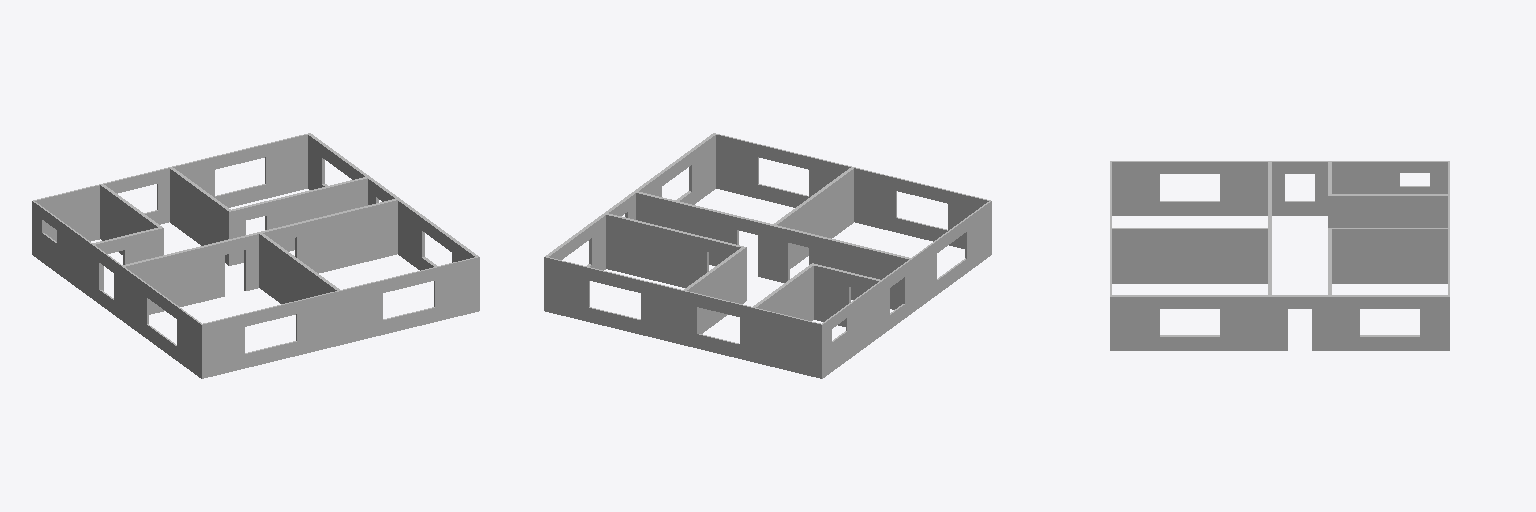
Rendered from house_2ndFloor_wall.obj.
The picture shows the model from 3 angles: view 1: azimuth 30°, elevation 25°; view 2: azimuth 150°, elevation 25°; view 3: azimuth 270°, elevation 25°; orthographic projection.
Visible parts, largest first — view 1: Cube.029_Mesh, Cube.036_Mesh, Cube.038_Mesh, Cube.040_Mesh, Cube.037_Mesh, Cube.030_Mesh, Cube.043_Mesh, Cube.044_Mesh, Cube.042_Mesh, Cube.070_Mesh, Cube.024_Mesh; view 2: Cube.036_Mesh, Cube.029_Mesh, Cube.038_Mesh, Cube.043_Mesh, Cube.030_Mesh, Cube.037_Mesh, Cube.040_Mesh, Cube.042_Mesh, Cube.044_Mesh, Cube.024_Mesh, Cube.070_Mesh; view 3: Cube.030_Mesh, Cube.038_Mesh, Cube.042_Mesh, Cube.044_Mesh, Cube.070_Mesh.
Boxes of the visible parts, x1=… form: Cube.029_Mesh: x1=201, y1=257, x2=475, y2=378; Cube.036_Mesh: x1=32, y1=133, x2=308, y2=254; Cube.038_Mesh: x1=33, y1=200, x2=202, y2=378; Cube.040_Mesh: x1=260, y1=199, x2=397, y2=273; Cube.037_Mesh: x1=121, y1=232, x2=259, y2=320; Cube.030_Mesh: x1=308, y1=133, x2=479, y2=311; Cube.043_Mesh: x1=228, y1=176, x2=367, y2=265; Cube.044_Mesh: x1=170, y1=167, x2=232, y2=265; Cube.042_Mesh: x1=257, y1=232, x2=341, y2=345; Cube.070_Mesh: x1=100, y1=184, x2=163, y2=255; Cube.024_Mesh: x1=93, y1=227, x2=159, y2=290; Cube.036_Mesh: x1=546, y1=257, x2=822, y2=378; Cube.029_Mesh: x1=716, y1=134, x2=991, y2=254; Cube.038_Mesh: x1=821, y1=201, x2=990, y2=378; Cube.043_Mesh: x1=605, y1=213, x2=745, y2=287; Cube.030_Mesh: x1=544, y1=133, x2=715, y2=311; Cube.037_Mesh: x1=774, y1=225, x2=912, y2=313; Cube.040_Mesh: x1=635, y1=191, x2=773, y2=279; Cube.042_Mesh: x1=771, y1=167, x2=853, y2=280; Cube.044_Mesh: x1=682, y1=246, x2=746, y2=344; Cube.024_Mesh: x1=814, y1=264, x2=881, y2=326; Cube.070_Mesh: x1=751, y1=263, x2=814, y2=361; Cube.030_Mesh: x1=1110, y1=295, x2=1449, y2=350; Cube.038_Mesh: x1=1111, y1=161, x2=1449, y2=215; Cube.042_Mesh: x1=1112, y1=228, x2=1267, y2=283; Cube.044_Mesh: x1=1328, y1=228, x2=1447, y2=283; Cube.070_Mesh: x1=1328, y1=194, x2=1449, y2=227.
Bounding box in the file's own units: 32.2 × 6 × 34.